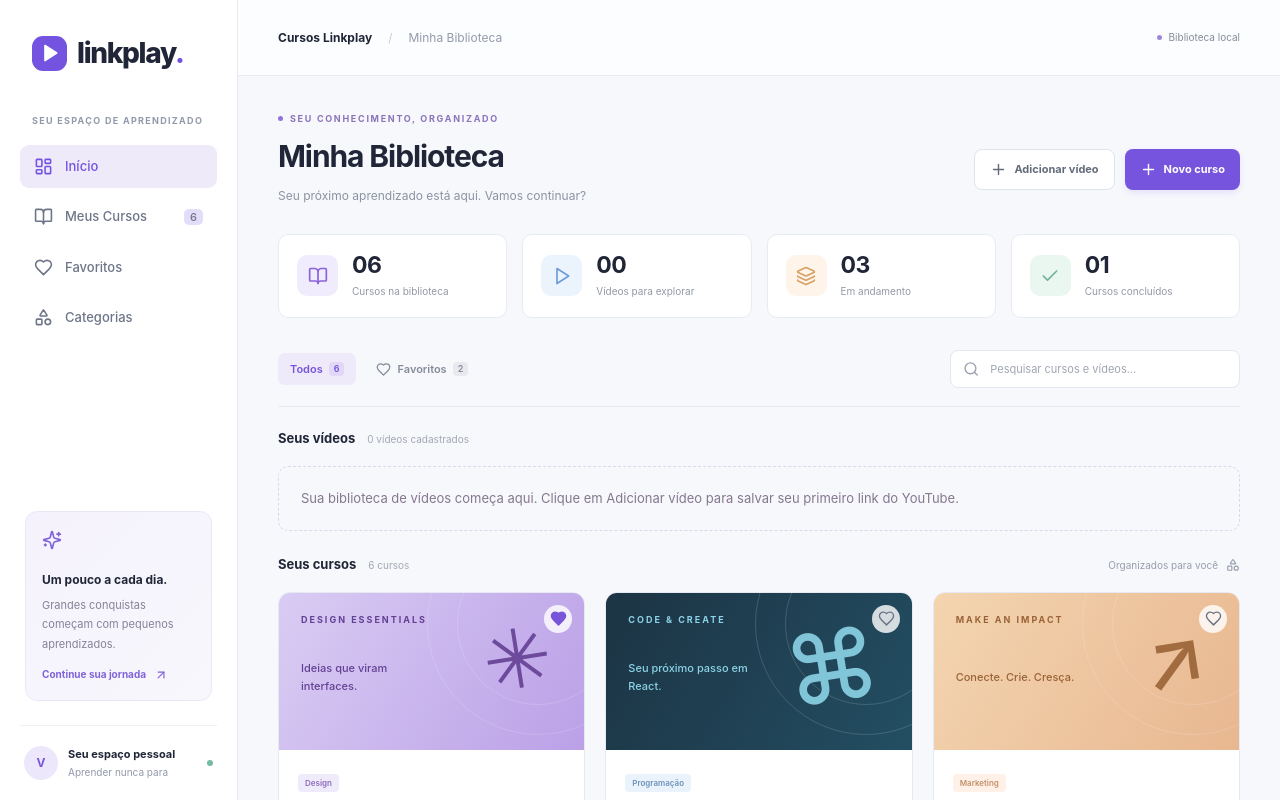
Test case: Biblioteca Cursos Linkplay › filtra categorias e simula progresso no curso aberto
This screenshot has width=1280, height=800.
Click the button "Categorias" at (118, 318), box [20,296,217,340]
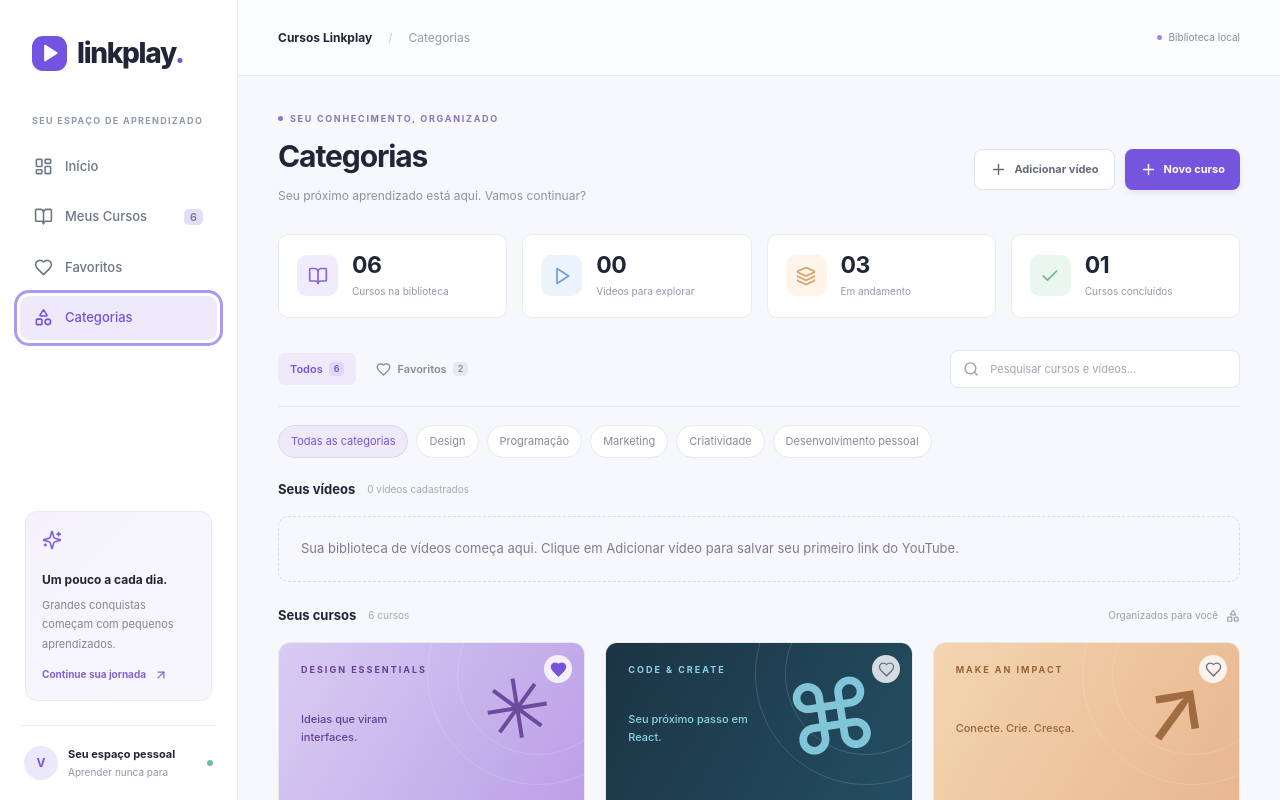
Click the button "Programação" at (534, 442), box [486,425,582,458]
(page scrolled)
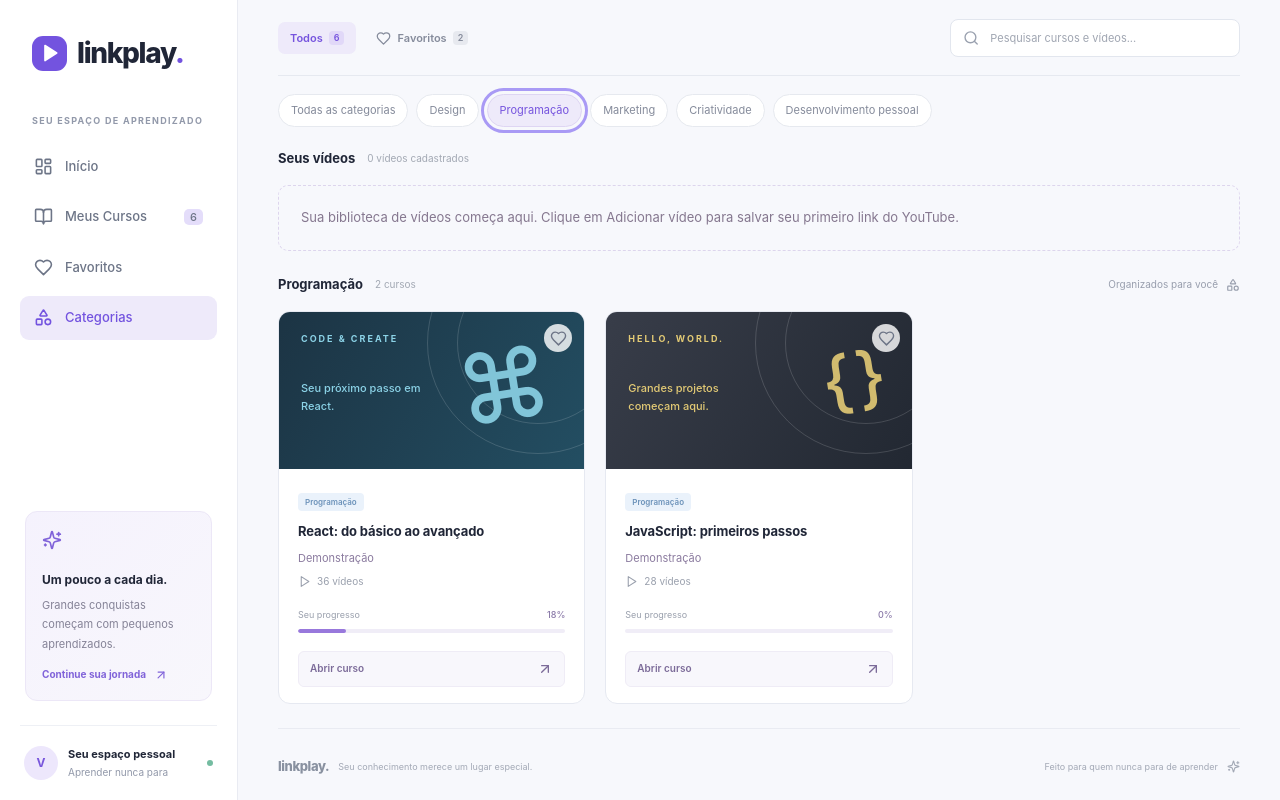
Now the number of buttons "Abrir curso" is 2
Click the button "Abrir curso" below "18" at (337, 668), box [298,651,565,687]
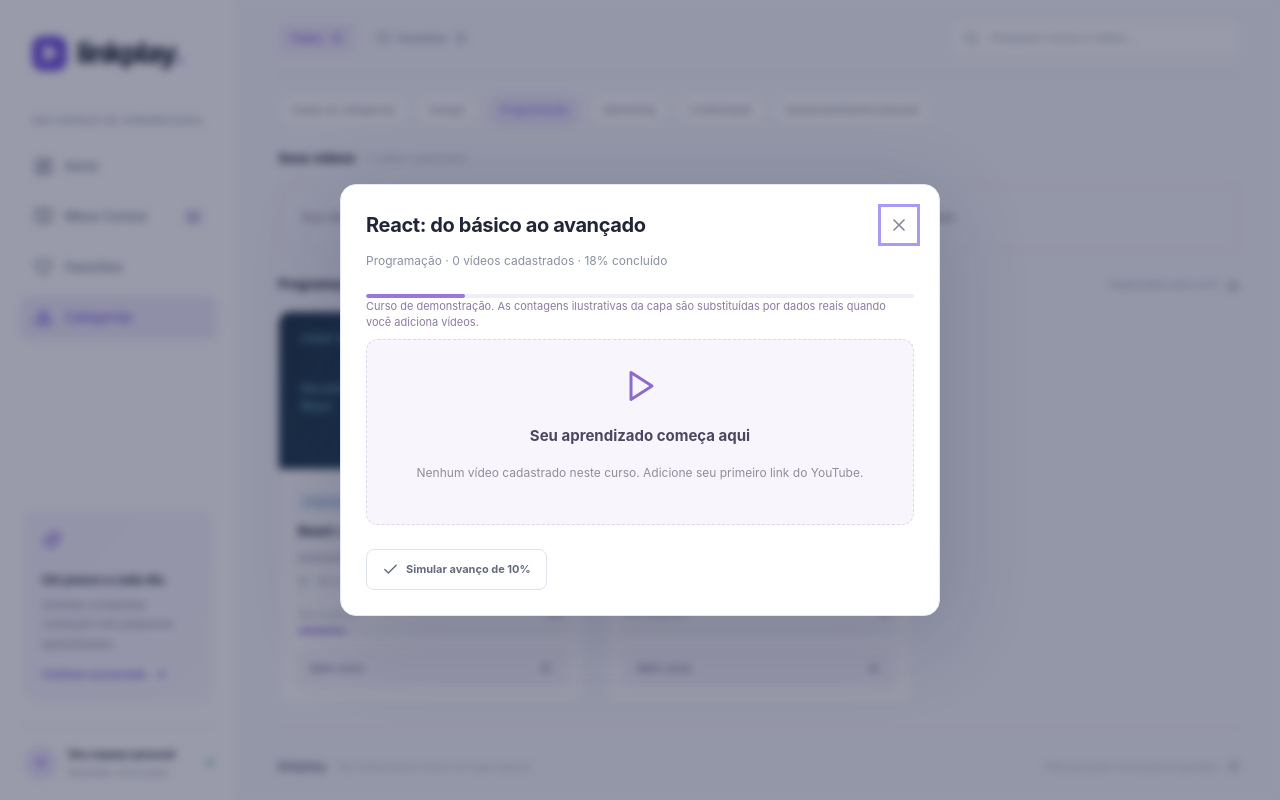
Click the button "Simular avanço de 10%" at (456, 570), box [366,549,547,590]
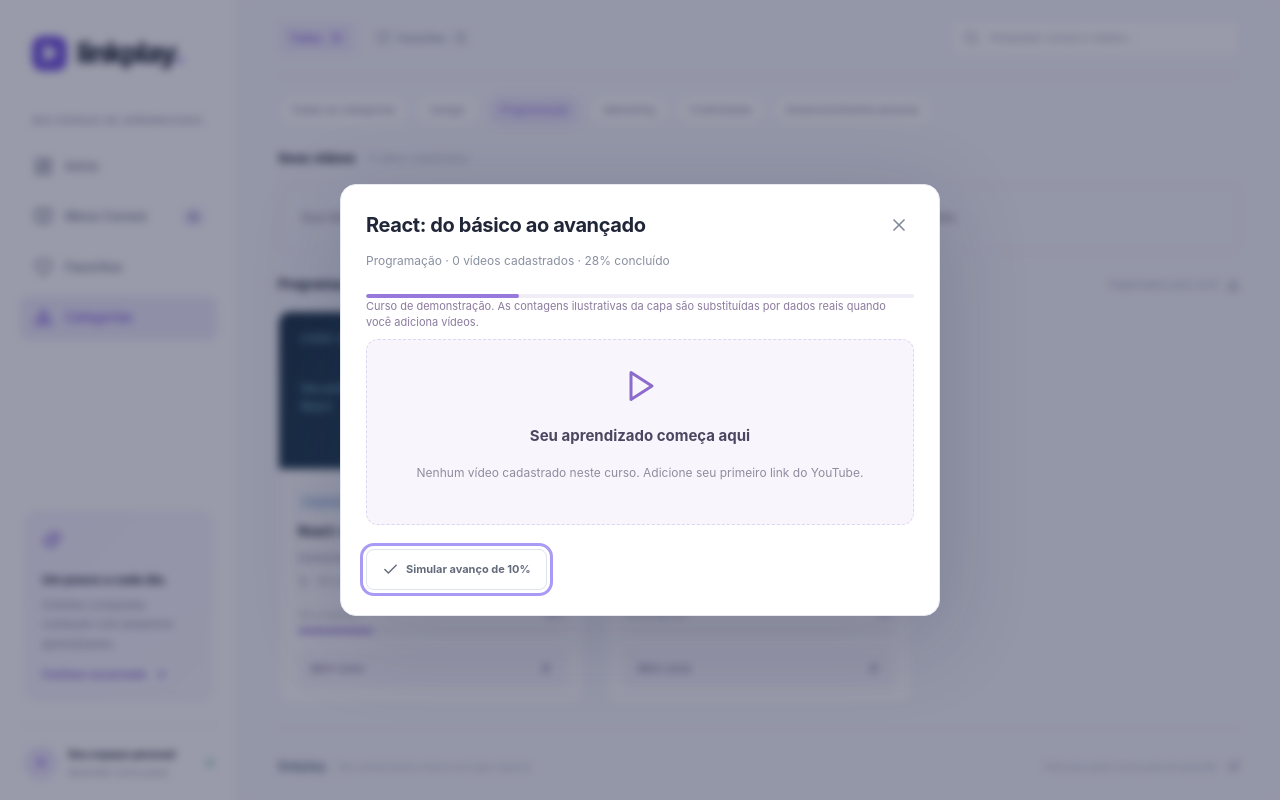
Now the text "Programação · 0 vídeos cadastrados · 28% concluído" is shown, box [366,253,670,268]
Click the button named "Fechar janela" at (899, 225), box [884,210,914,240]
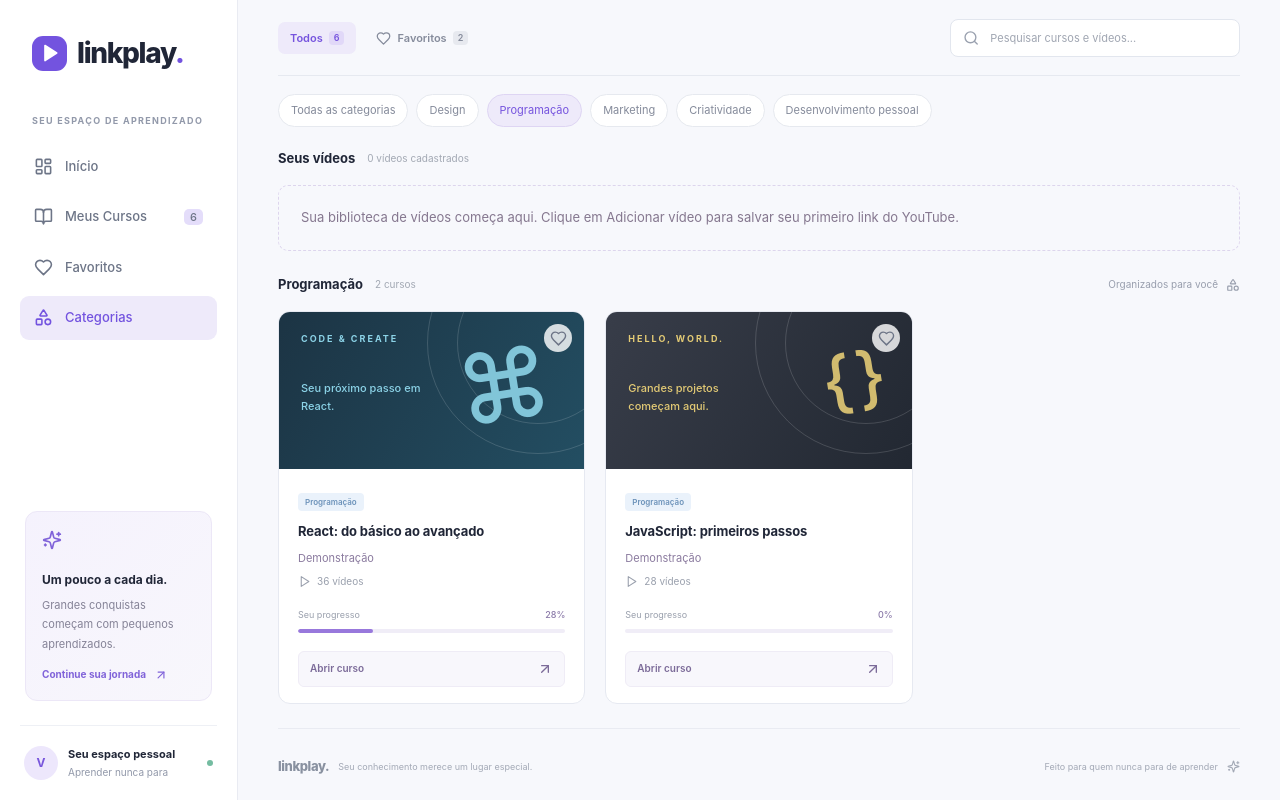
Now the dialog is gone
